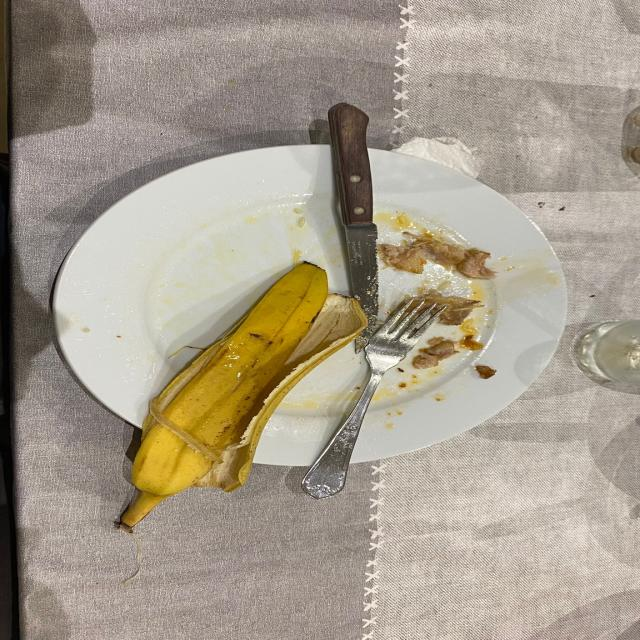fork: (302, 299, 448, 499)
garbage: (121, 263, 367, 528), (377, 232, 494, 279), (413, 333, 481, 369), (426, 290, 478, 325)
knife: (328, 103, 377, 321)
plate: (53, 145, 565, 466)
